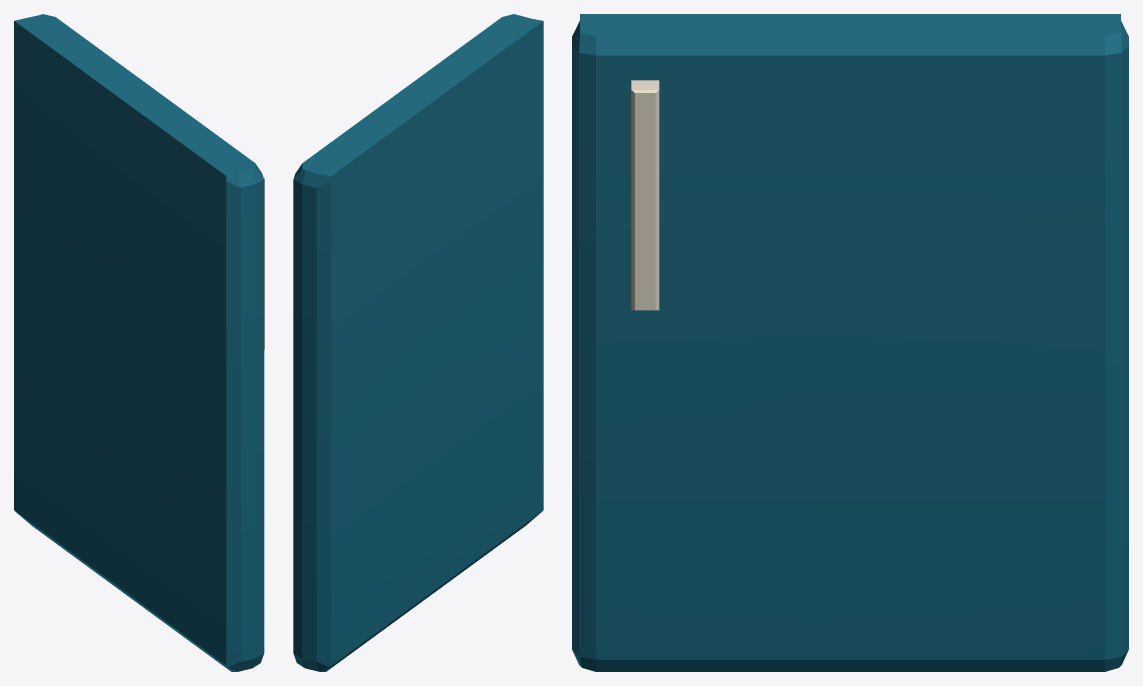
The model's file is fridge1-part2.glb.
3 views of the same model, side by side, from view 1: azimuth 30°, elevation 25°; view 2: azimuth 150°, elevation 25°; view 3: azimuth 270°, elevation 25° (orthographic). The views are drawn at different scales.
Visible parts, largest first — view 1: Fridge1Part2.001; view 2: Fridge1Part2.001; view 3: Fridge1Part2.001.
Boxes of the visible parts, x1,y1,x2,y2 form: Fridge1Part2.001: (14,14,264,671); Fridge1Part2.001: (293,14,543,671); Fridge1Part2.001: (572,14,1128,671).
Size of the model in its own units: 0.1588 by 1.27 by 1.
Materials: 1 (1 with a texture image).
